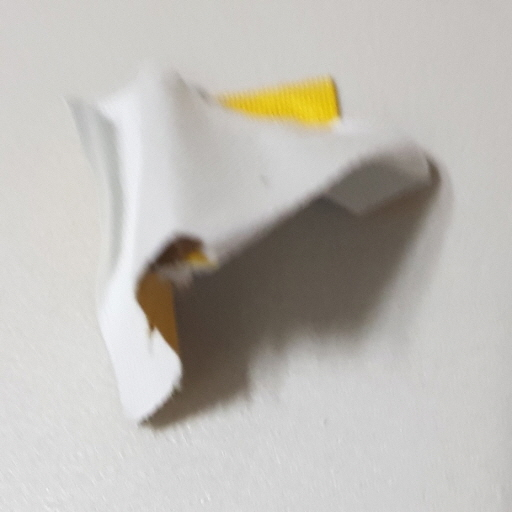Paper_3: (50, 49, 431, 410)
